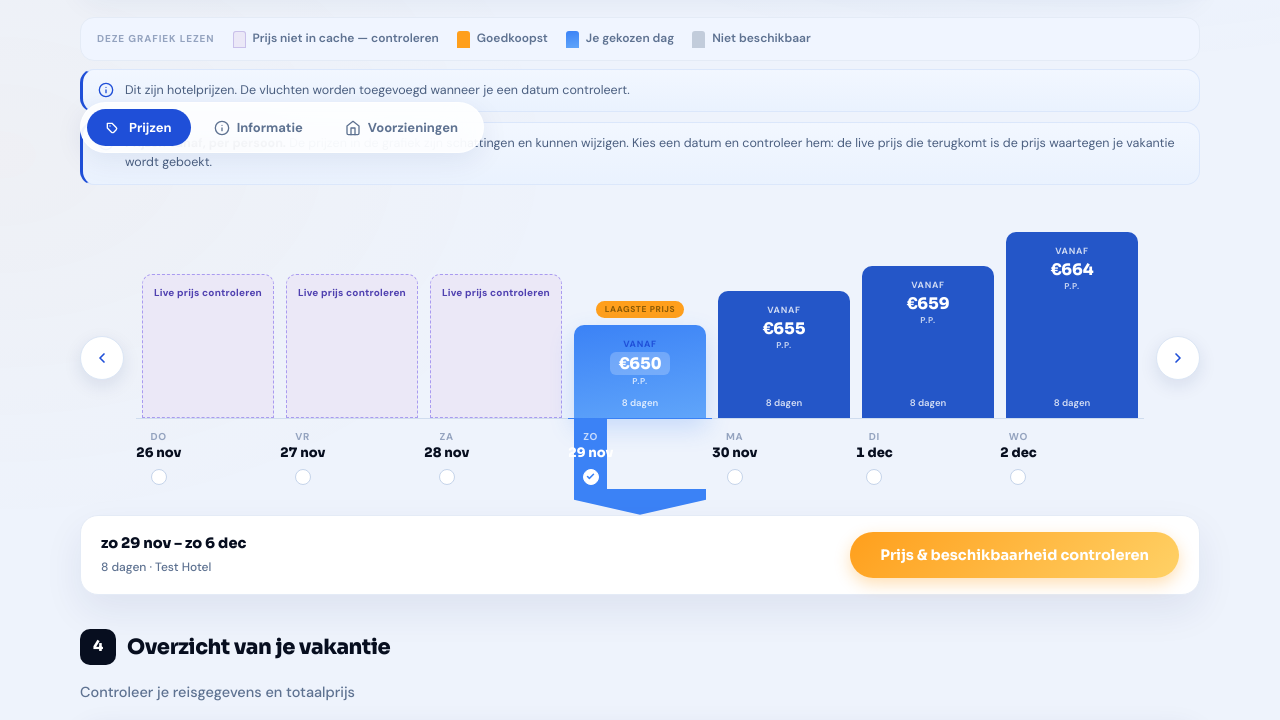
Scenario: room differences are measured from the rate being quoted › a saving is marked as one, not just signed
(page scrolled)
What coordinates should you click on to do the following:
click the button "Laagste prijs vanaf €650 p.p. 8 dagen zo 29 nov"
I would click on:
 (640, 361)
Its box is [568,207,712,515].
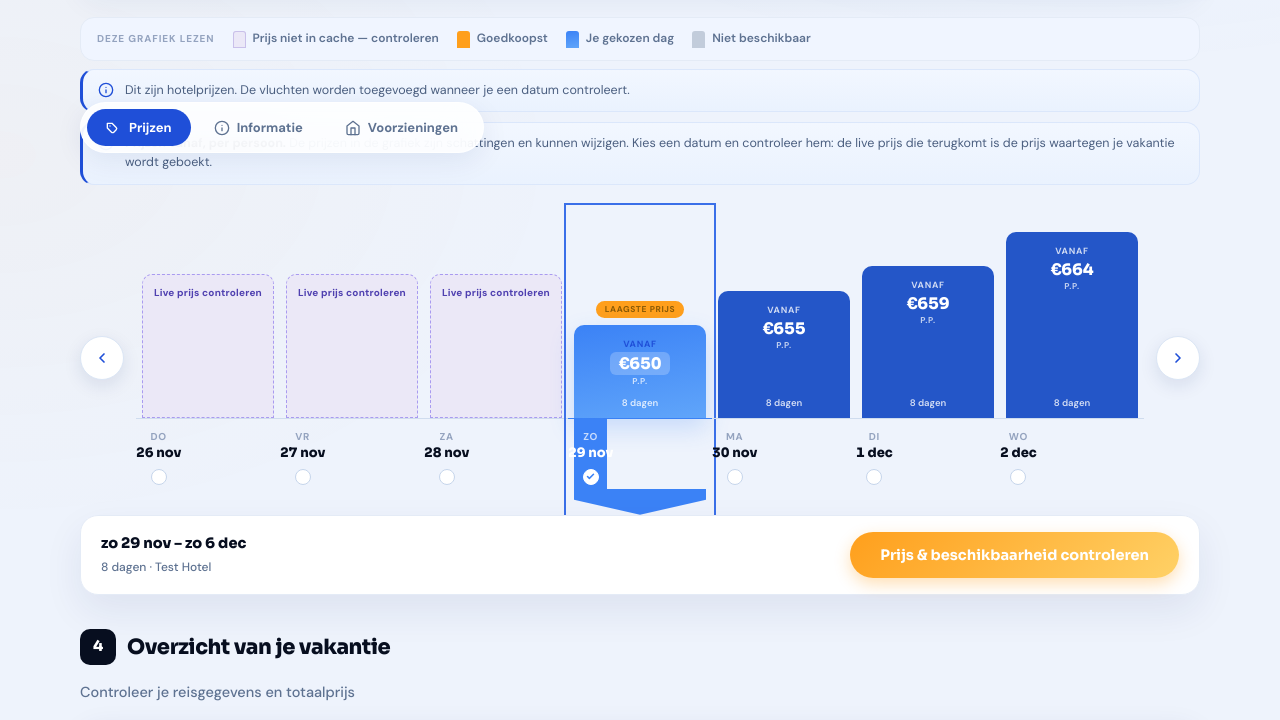
What coordinates should you click on to do the following:
click the button "Prijs & beschikbaarheid controleren"
I would click on:
 (1015, 555)
Its box is [850,532,1179,578].
(page scrolled)
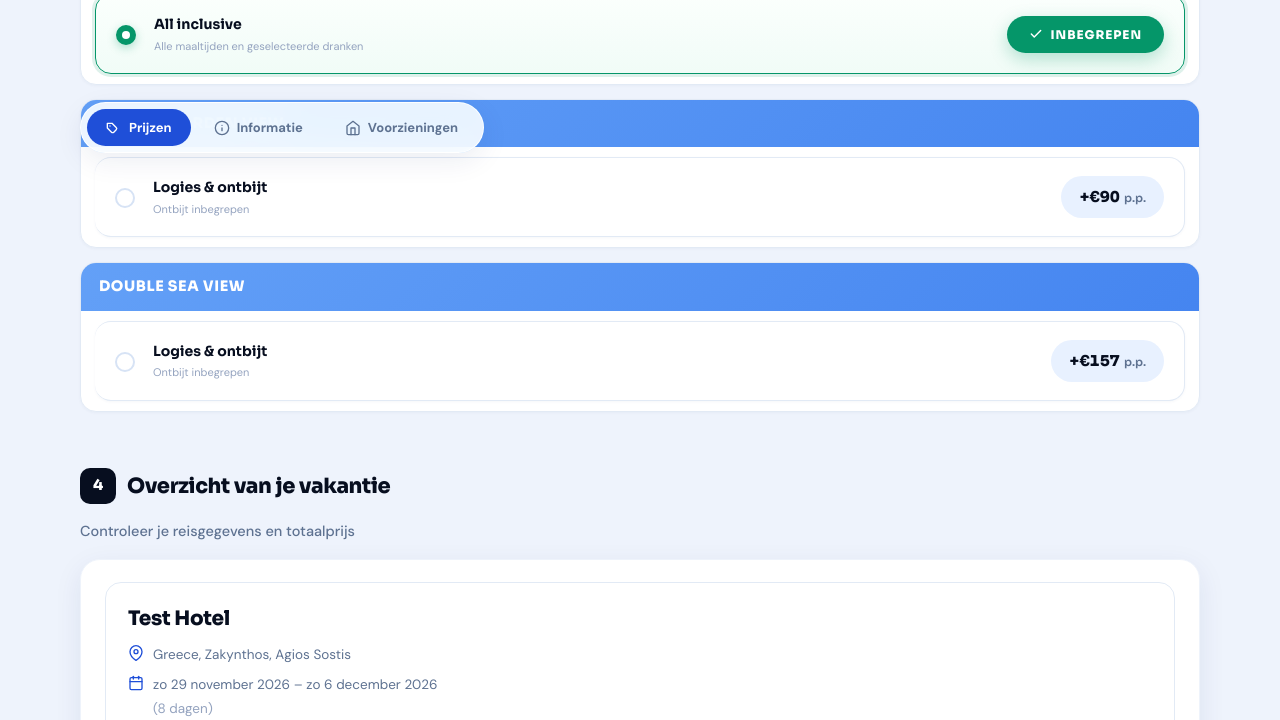
Check: the 3rd element with class "room-option" is shown
What coordinates should you click on to do the following:
click the 3rd element with class "room-option"
I would click on:
 (640, 361)
Its box is [95,321,1185,401].
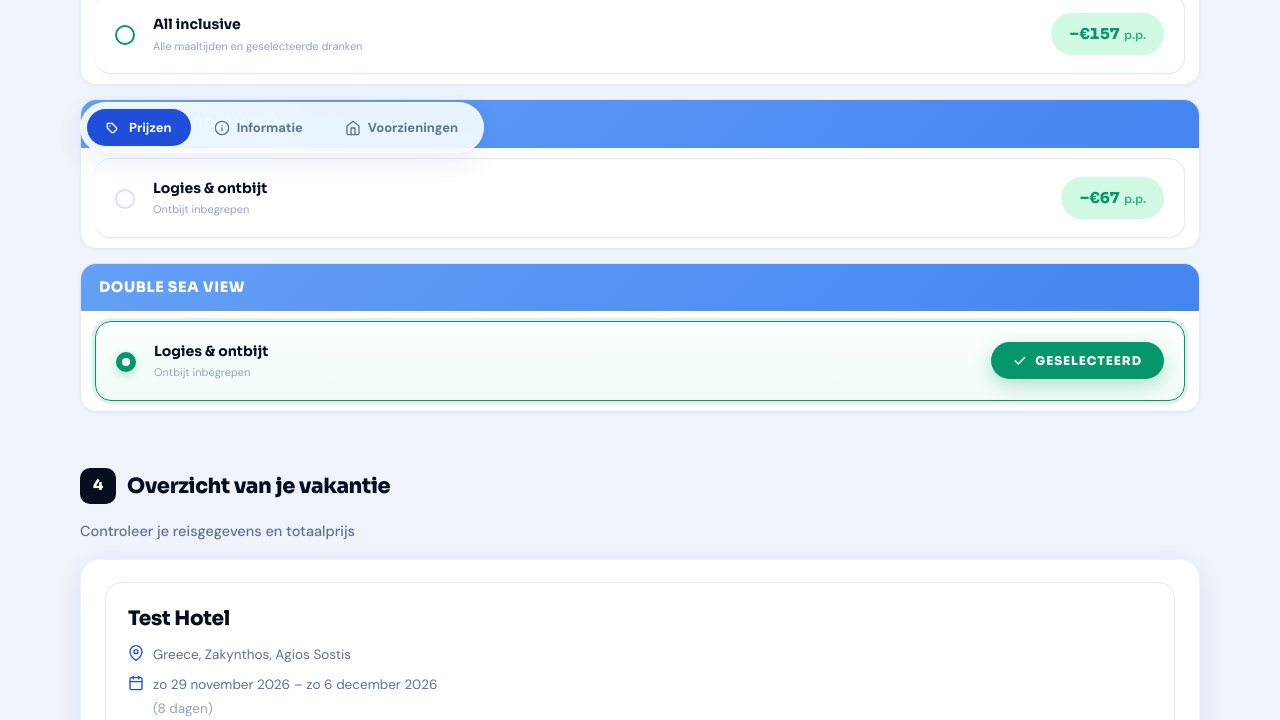
Check: the element with class "cheaper" showing "−€157 p.p." is shown, box [1051,13,1164,55]
Check: the element with class "cheaper" showing "−€67 p.p." is shown, box [1061,176,1164,218]
